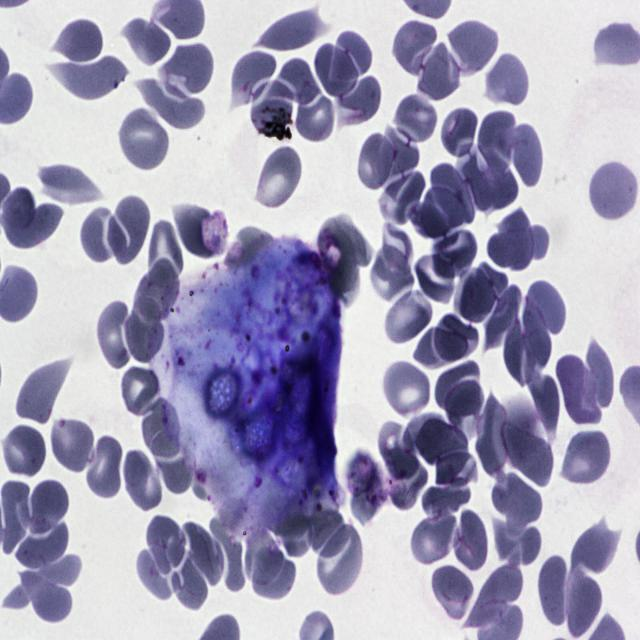red blood cell: (314, 216, 378, 280), (465, 559, 526, 624), (314, 524, 365, 597), (445, 17, 503, 80), (115, 108, 168, 173), (255, 8, 329, 54), (502, 316, 546, 393), (255, 142, 304, 211), (474, 107, 517, 185), (107, 191, 151, 267), (141, 76, 204, 129), (476, 397, 513, 487), (585, 162, 640, 222), (17, 362, 72, 422), (34, 160, 101, 209), (56, 55, 127, 100), (562, 564, 604, 640), (428, 162, 476, 228), (558, 354, 602, 426), (381, 357, 431, 420), (8, 199, 66, 253), (144, 217, 186, 291), (486, 208, 535, 271), (468, 156, 519, 216), (164, 40, 216, 98), (134, 259, 181, 323), (508, 426, 554, 491), (522, 277, 568, 340), (483, 51, 532, 110), (493, 472, 542, 530), (121, 448, 164, 514), (230, 50, 277, 110), (2, 421, 48, 482), (506, 120, 546, 190), (407, 413, 464, 462), (182, 522, 224, 588), (411, 250, 462, 304), (143, 514, 187, 576), (414, 45, 460, 104), (174, 201, 219, 261), (84, 434, 124, 501), (80, 206, 123, 267), (125, 300, 164, 367), (26, 478, 71, 536), (390, 90, 435, 148), (412, 186, 462, 238), (571, 519, 620, 572), (562, 430, 610, 484), (485, 278, 519, 353), (273, 58, 325, 107), (524, 371, 562, 438), (252, 547, 299, 601), (336, 74, 384, 126), (431, 562, 474, 620), (386, 287, 432, 341), (16, 521, 68, 568), (451, 509, 488, 575), (96, 298, 130, 369), (142, 397, 182, 457), (438, 103, 480, 160), (377, 130, 419, 187), (434, 362, 482, 411), (251, 80, 293, 136), (356, 133, 398, 189), (412, 327, 469, 368), (136, 546, 180, 599), (50, 420, 96, 470), (393, 21, 437, 73), (306, 507, 349, 560), (594, 21, 640, 70), (372, 245, 412, 301), (383, 166, 423, 222), (245, 529, 285, 585), (118, 366, 160, 419), (124, 20, 172, 66), (380, 422, 418, 480), (295, 90, 334, 146), (434, 314, 480, 361), (433, 227, 480, 273), (28, 573, 73, 620), (314, 46, 358, 94), (539, 556, 569, 626), (422, 480, 472, 522), (171, 554, 208, 610), (54, 21, 104, 62), (158, 438, 194, 494), (412, 516, 454, 563), (494, 522, 542, 563), (331, 31, 371, 80), (453, 275, 493, 321), (434, 444, 474, 486)
